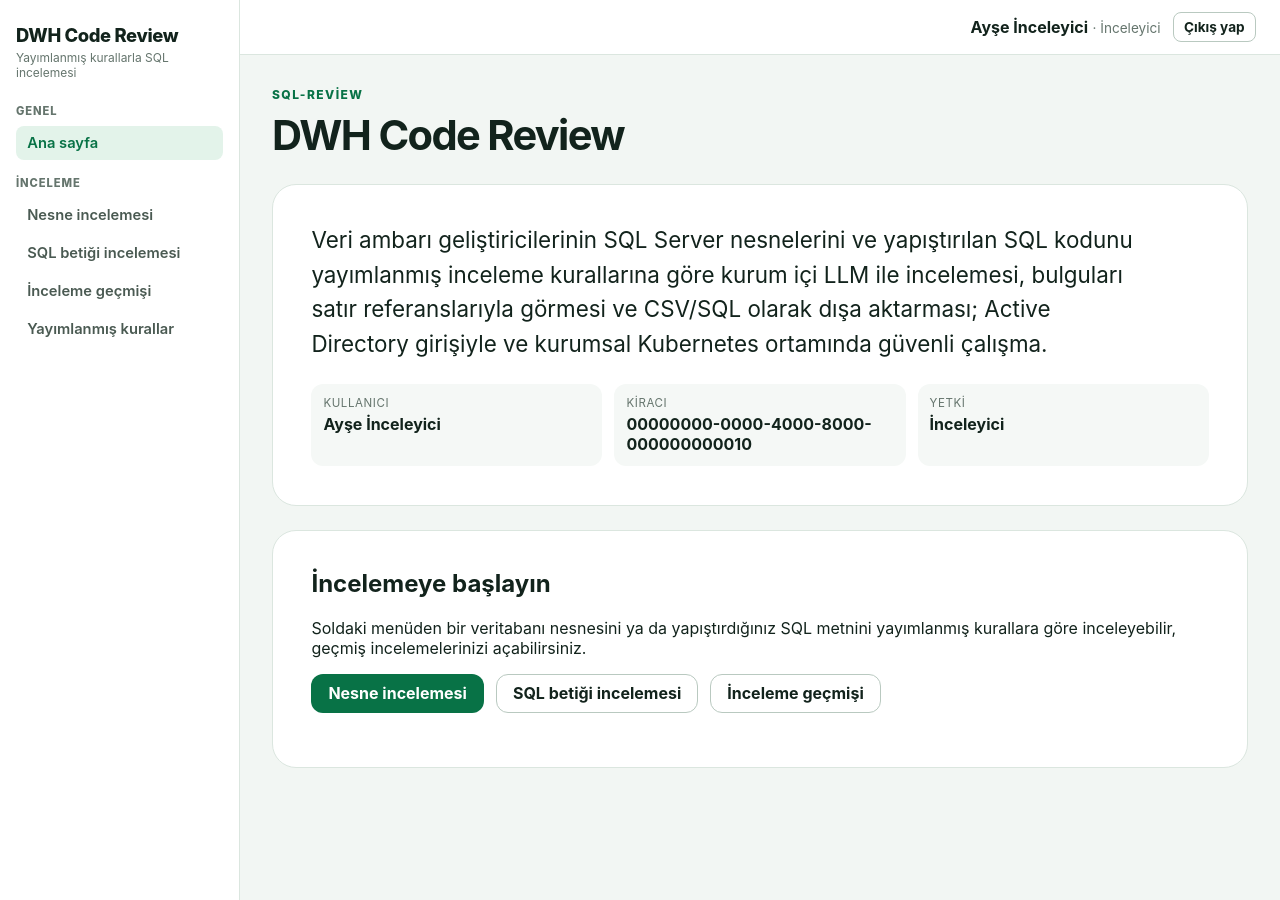
Test: application shell › shows the display name and role, and signs out through the server
Expected: the 1st text "Ayşe İnceleyici" is shown, [970,17,1088,37]
Expected: the text "· İnceleyici" is shown, [1092,20,1161,36]
Click the button "Çıkış yap".
click(1214, 27)  # box [1173,12,1256,42]
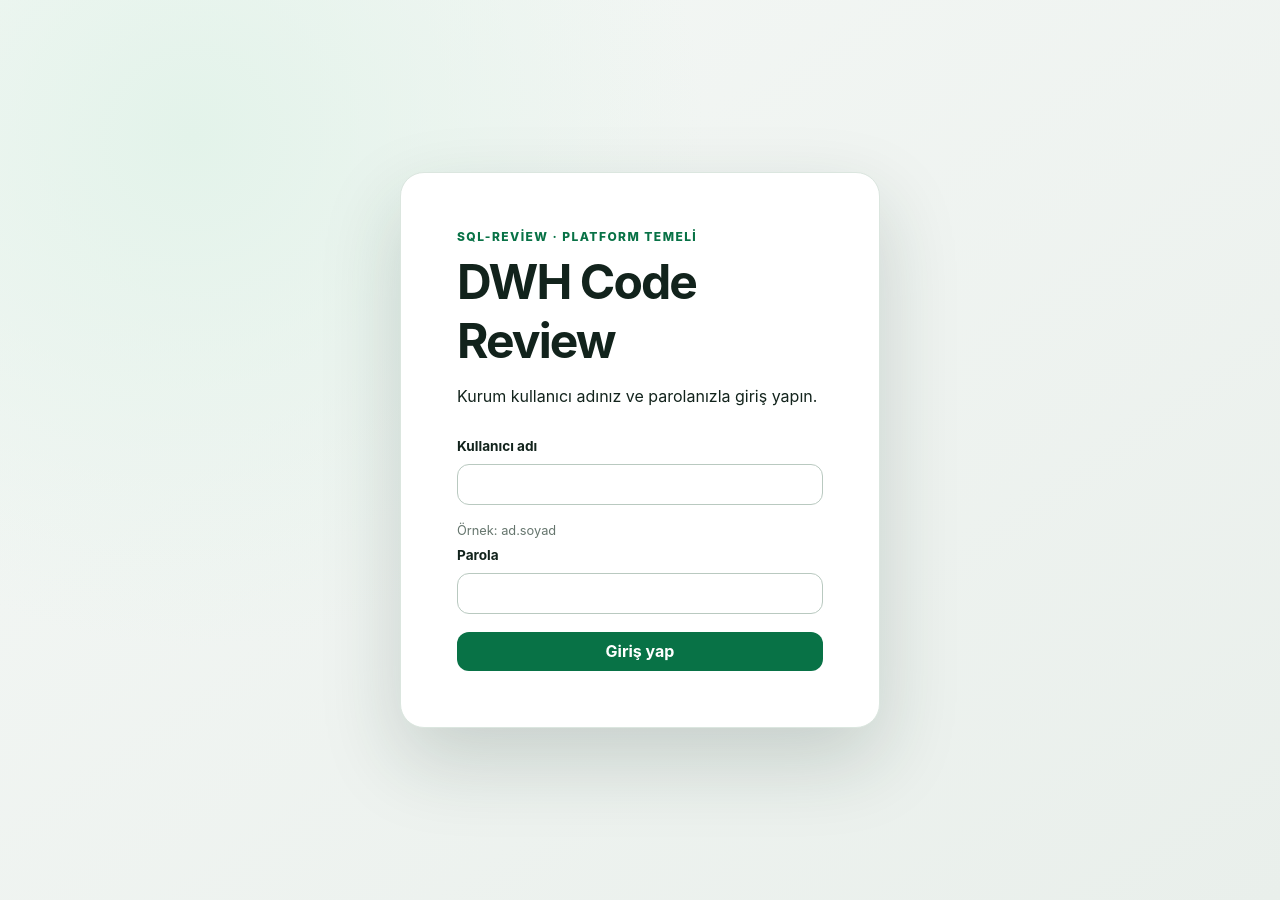
Now the field labelled "Kullanıcı adı" is shown, box [457,464,823,505]
